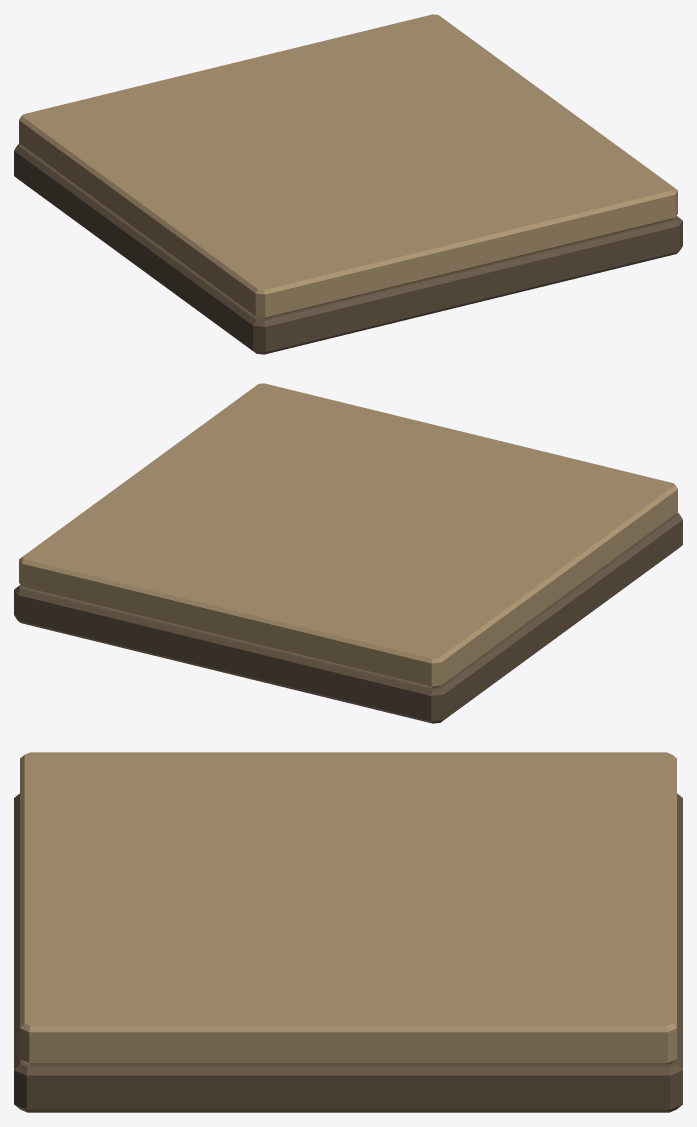
The model's file is floor-small.glb.
3 renders of one model, top to bottom at view 1: azimuth 30°, elevation 25°; view 2: azimuth 150°, elevation 25°; view 3: azimuth 270°, elevation 25°, orthographic. The views are drawn at different scales.
Visible parts, largest first — view 1: floor-small__body; view 2: floor-small__body; view 3: floor-small__body.
Boxes of the visible parts, x1,y1,x2,y2 form: floor-small__body: (14,14,682,354); floor-small__body: (14,383,682,723); floor-small__body: (14,752,682,1112).
Bounding box in the file's own units: 1 × 0.14 × 1.
